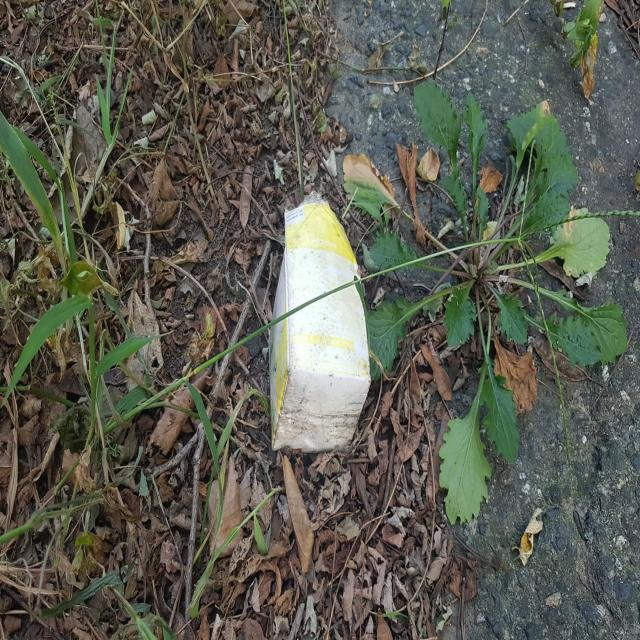paperpack: (270, 196, 370, 453)
